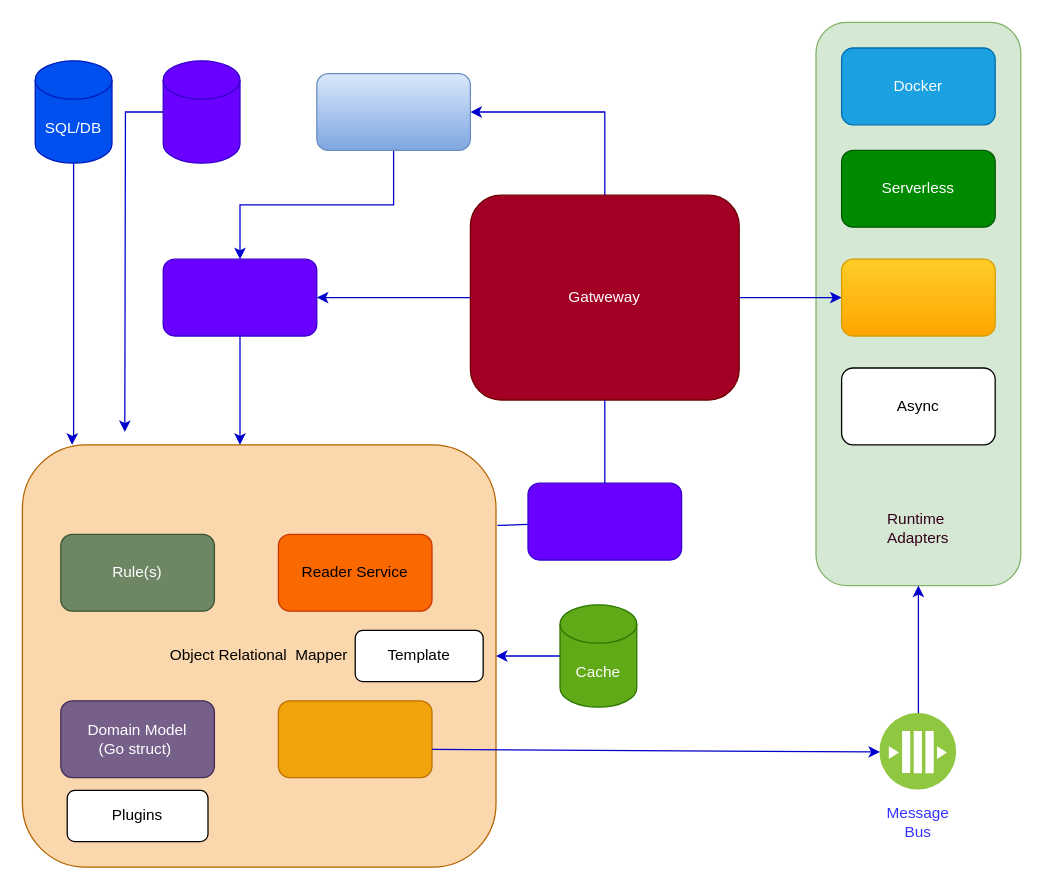
This 1043x890 diagram has some shape labels left out. The shapes that lost their labels are listed below. From the top down, each one's centre as x and y in pixels, then its label:
At (x=201, y=111): "NoSQL".
At (x=393, y=111): "OAuth Provider".
At (x=239, y=297): "Resource".
At (x=917, y=297): "Standalone".
At (x=604, y=521): "Rule repository Local/Cloud storage".
At (x=354, y=739): "Executor Service".
